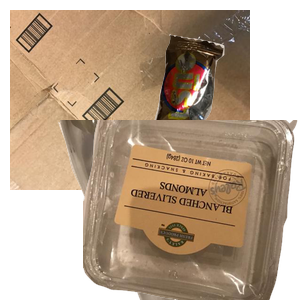cardboard: (10, 10, 250, 190)
glass: (56, 120, 241, 300)
plastic: (83, 120, 300, 300)
trash: (150, 32, 300, 172)
